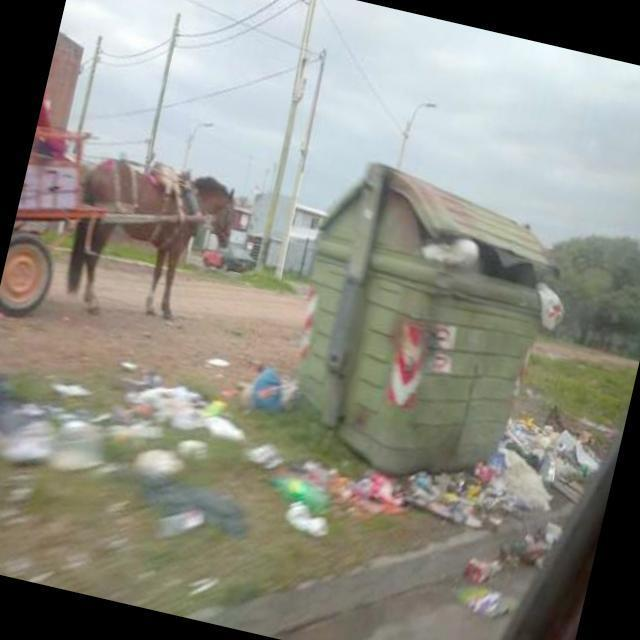garbage: (340, 425, 560, 550), (400, 224, 582, 335), (102, 352, 257, 459), (228, 438, 350, 546), (491, 397, 620, 484), (0, 397, 65, 485), (239, 358, 308, 423), (0, 355, 14, 476)
